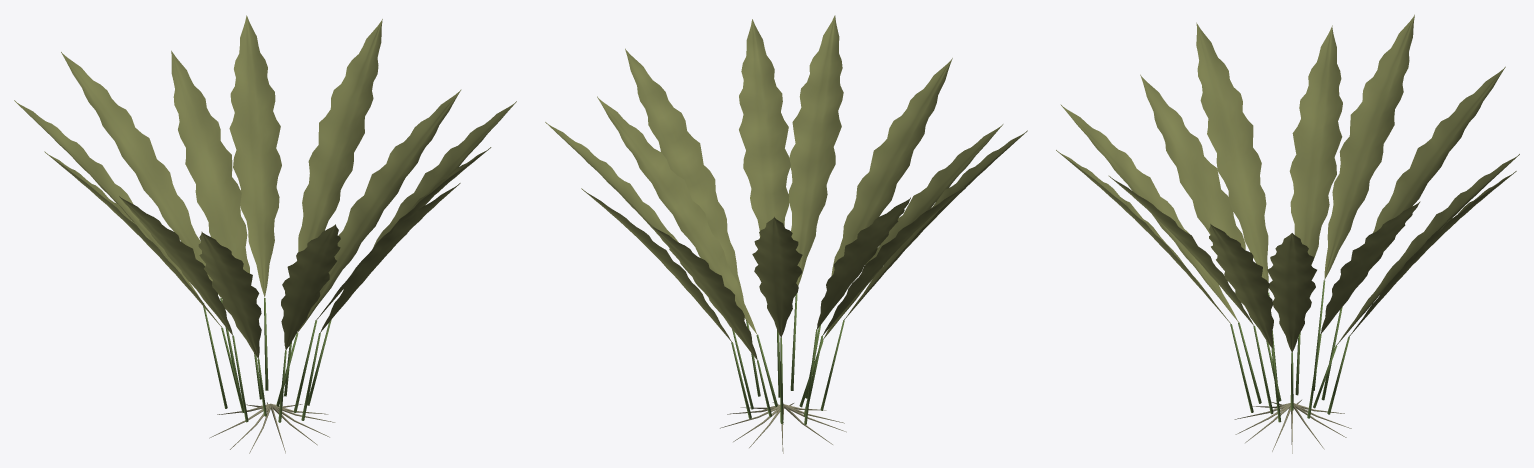
Rendered from crypt-desktop.glb.
3 renders of one model, left to right at view 1: azimuth 30°, elevation 25°; view 2: azimuth 150°, elevation 25°; view 3: azimuth 270°, elevation 25°, orthographic. The views are drawn at different scales.
Parts seen in each view (by area): view 1: blade, petiole, anchoring-root; view 2: blade, petiole, anchoring-root; view 3: blade, petiole, anchoring-root.
Part boxes in pixels (x1,y1,x2,y2): blade: [14, 15, 516, 358]; petiole: [203, 298, 331, 422]; anchoring-root: [209, 402, 335, 453]; blade: [545, 15, 1027, 360]; petiole: [731, 293, 844, 424]; anchoring-root: [720, 402, 846, 453]; blade: [1056, 14, 1519, 352]; petiole: [1230, 280, 1349, 422]; anchoring-root: [1234, 400, 1351, 453].
Size of the model in its own units: 0.7409 by 0.5695 by 0.7465.
